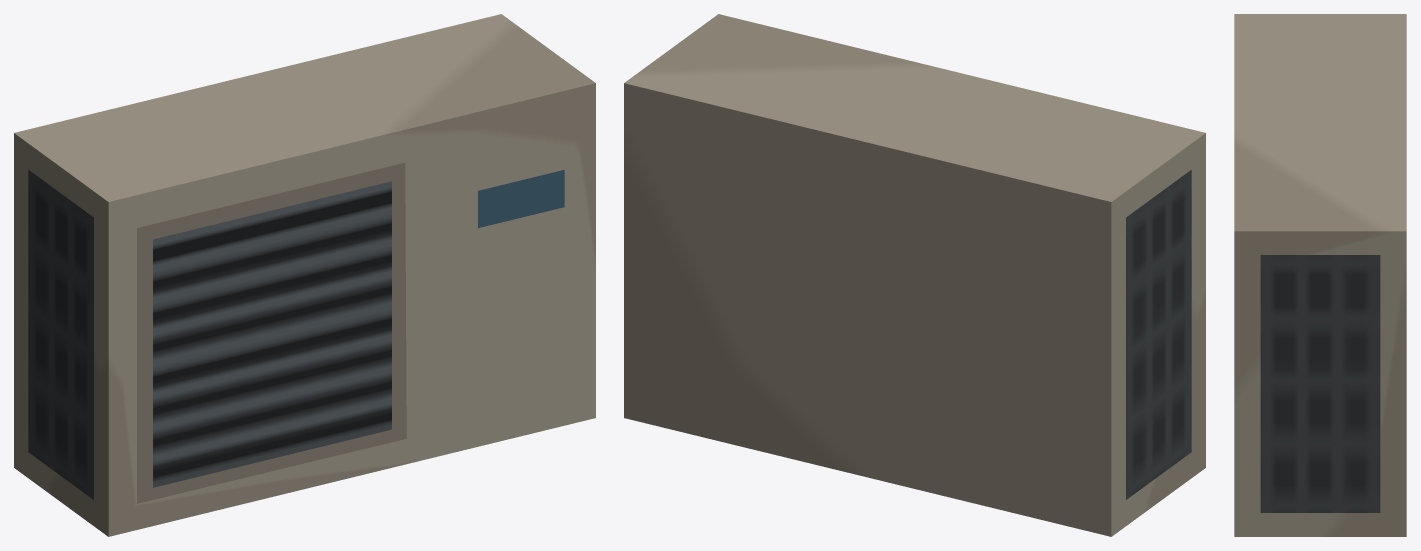
File: SM_Prop_Airconditioner_Optimized_01.fbx
3 renders of one model, left to right at view 1: azimuth 30°, elevation 25°; view 2: azimuth 150°, elevation 25°; view 3: azimuth 270°, elevation 25°, orthographic. The views are drawn at different scales.
Visible parts, largest first — view 1: SM_Prop_Airconditioner_Optimized_01; view 2: SM_Prop_Airconditioner_Optimized_01; view 3: SM_Prop_Airconditioner_Optimized_01.
Boxes of the visible parts, bbox=[...] form: SM_Prop_Airconditioner_Optimized_01: bbox=[14, 14, 595, 536]; SM_Prop_Airconditioner_Optimized_01: bbox=[624, 14, 1205, 536]; SM_Prop_Airconditioner_Optimized_01: bbox=[1234, 14, 1406, 536].
Bounding box in the file's own units: 107 × 70.52 × 36.07.
